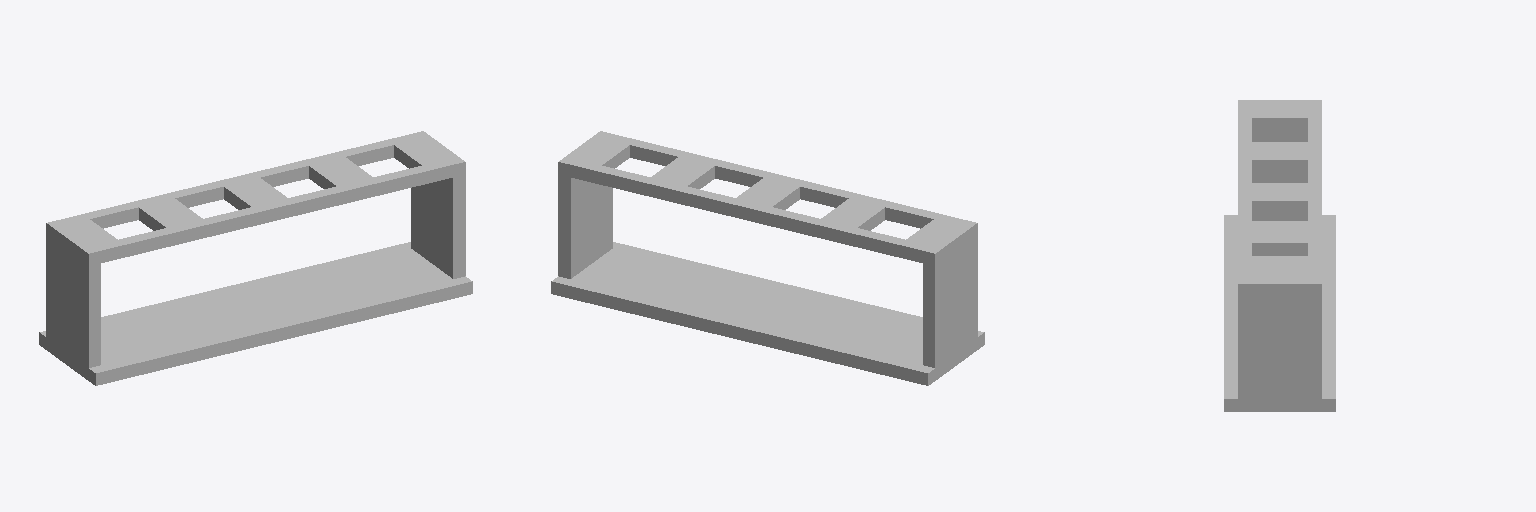
File: supporttube.obj
The picture shows the model from 3 angles: view 1: azimuth 30°, elevation 25°; view 2: azimuth 150°, elevation 25°; view 3: azimuth 270°, elevation 25°; orthographic projection.
Visible parts, largest first — view 1: supporttube; view 2: supporttube; view 3: supporttube.
Boxes of the visible parts, x1=… form: supporttube: x1=39, y1=131, x2=472, y2=385; supporttube: x1=551, y1=131, x2=984, y2=385; supporttube: x1=1224, y1=100, x2=1335, y2=411.
Bounding box in the file's own units: 31 × 10 × 8.